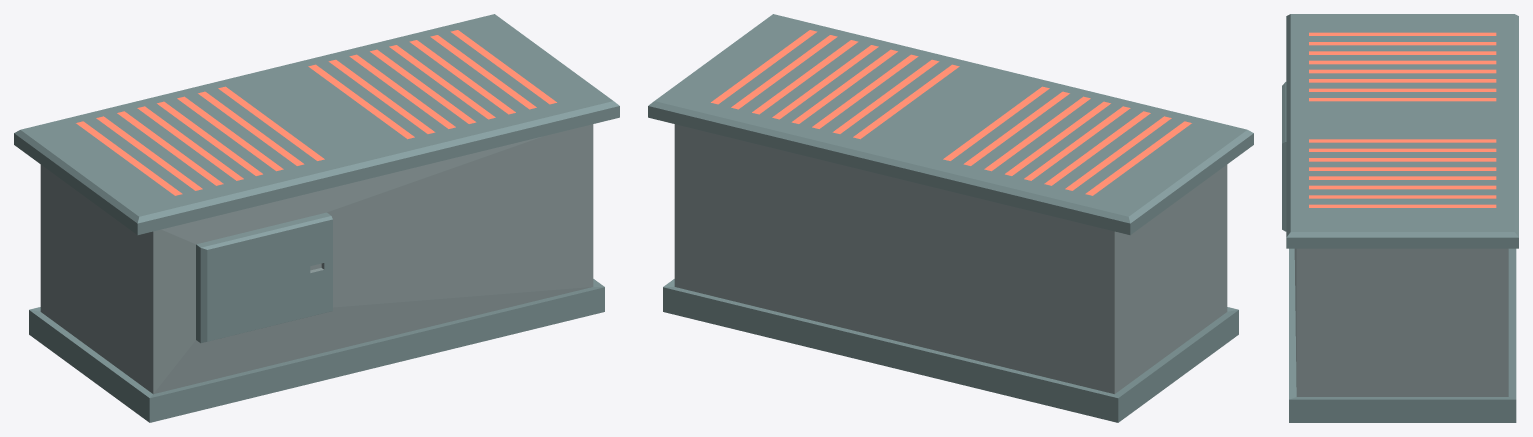
Rendered from stove.glb.
3 views of the same model, side by side, from view 1: azimuth 30°, elevation 25°; view 2: azimuth 150°, elevation 25°; view 3: azimuth 270°, elevation 25° (orthographic). The views are drawn at different scales.
Visible parts, largest first — view 1: stove; view 2: stove; view 3: stove.
Part boxes in pixels (x1,y1,x2,y2): stove: (14,14,619,422); stove: (648,14,1253,422); stove: (1282,14,1518,422).
Size of the model in its own units: 2.08 by 0.865 by 0.9379.
